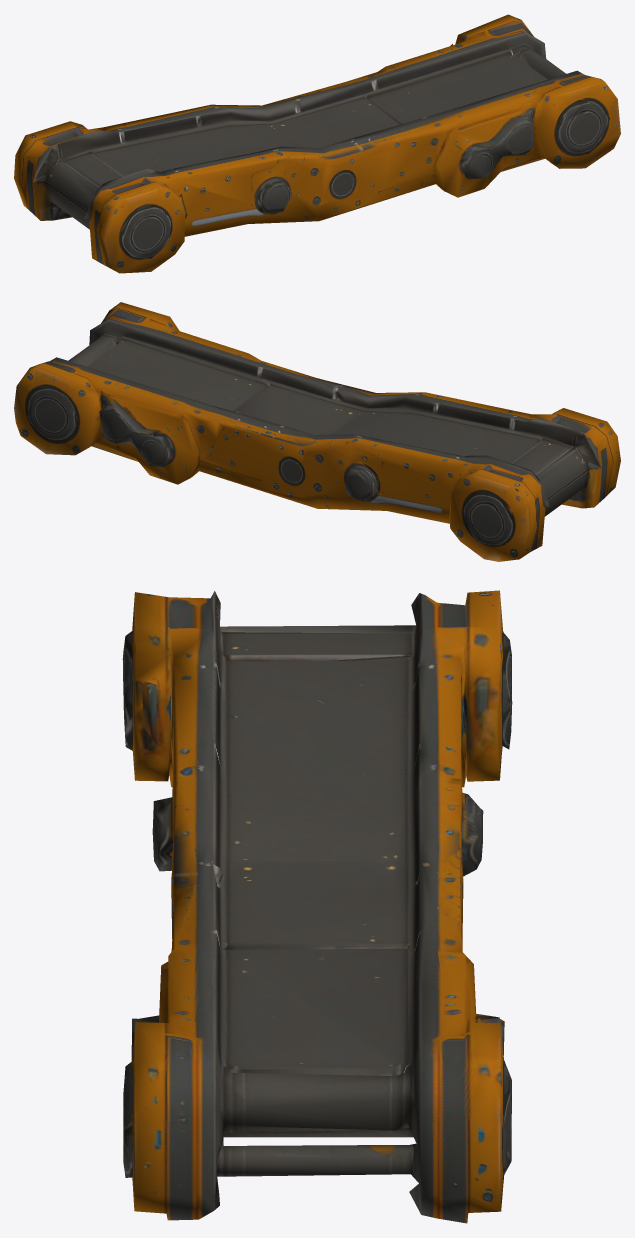
The model's file is cinta.fbx.
The picture shows the model from 3 angles, top to bottom: view 1: azimuth 30°, elevation 25°; view 2: azimuth 150°, elevation 25°; view 3: azimuth 270°, elevation 25°; orthographic projection. The views are drawn at different scales.
Parts seen in each view (by area): view 1: tripo_node_6aebbde3; view 2: tripo_node_6aebbde3; view 3: tripo_node_6aebbde3.
Boxes of the visible parts, bbox=[...] form: tripo_node_6aebbde3: bbox=[14, 14, 620, 273]; tripo_node_6aebbde3: bbox=[14, 302, 620, 561]; tripo_node_6aebbde3: bbox=[122, 590, 512, 1223].
Size of the model in its own units: 100 by 17.43 by 32.76.
Materials: 1 (1 with a texture image).
